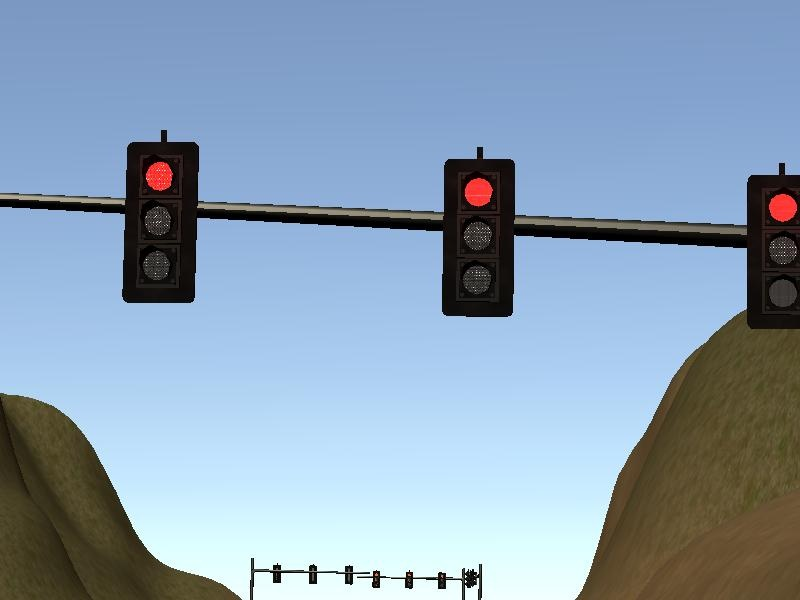red: (122, 143, 199, 304), (442, 159, 516, 317), (746, 175, 800, 330)
